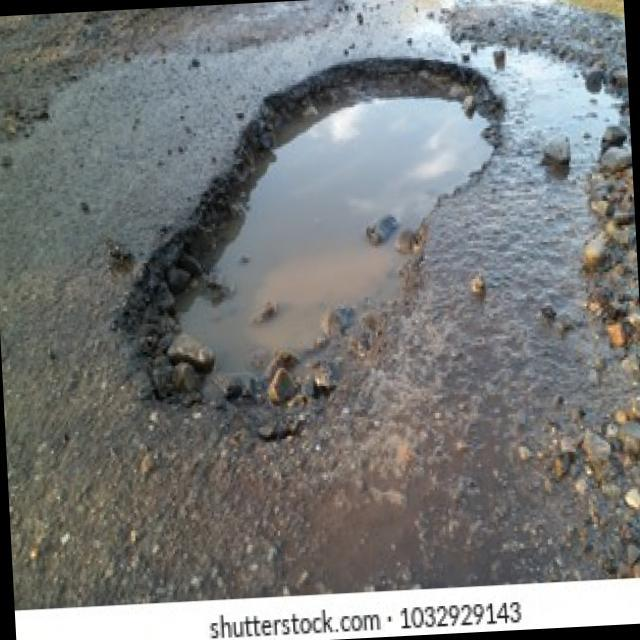Pothole: (103, 49, 521, 442)
